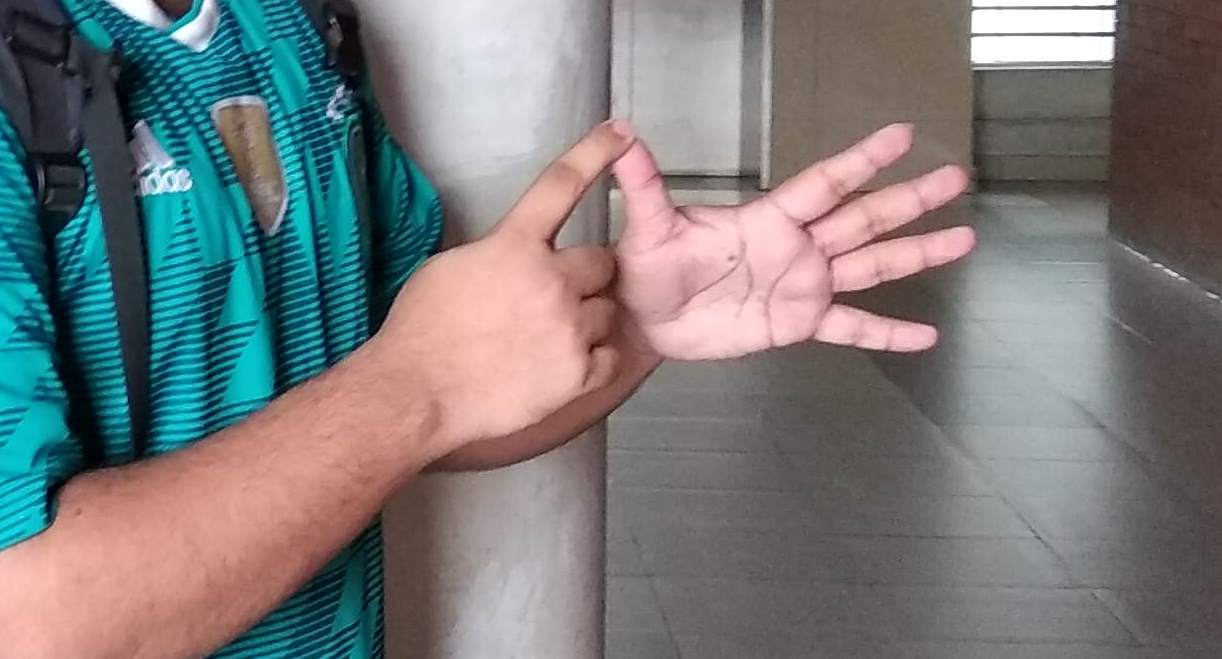a: (484, 108, 937, 423)
